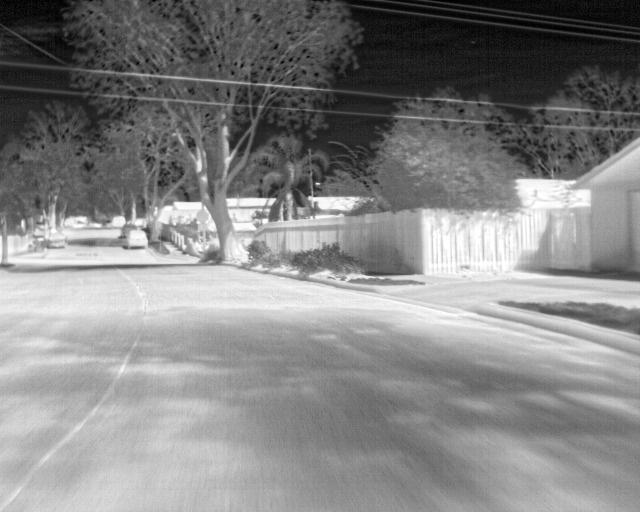car: (118, 225, 147, 249), (46, 230, 67, 248), (107, 214, 126, 229)
